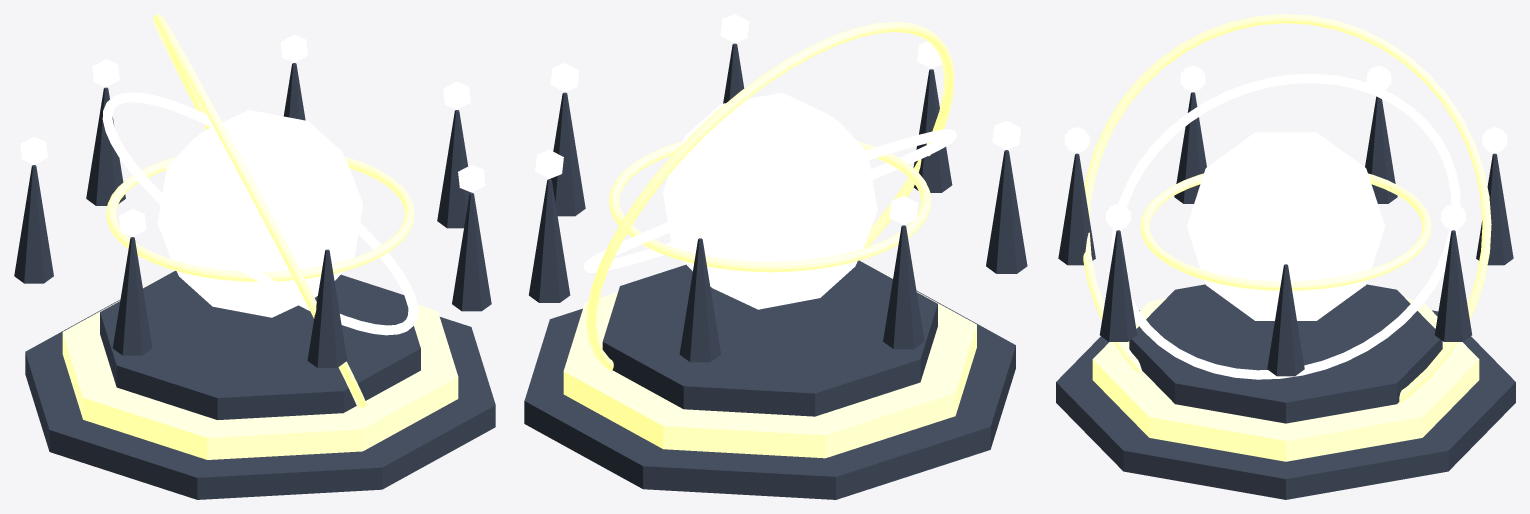
File: gpu-blender-v13.glb
The picture shows the model from 3 angles, left to right: view 1: azimuth 30°, elevation 25°; view 2: azimuth 150°, elevation 25°; view 3: azimuth 270°, elevation 25°; orthographic projection. The views are drawn at different scales.
Visible parts, largest first — view 1: Cylinder.002, SovereignCore_agent-capsule-jail, Cylinder, Cylinder.001, Torus.001, Torus, Torus.002, Cone.006, Cone.003, Cone.004, Cone.005, Cone (+9 smaller); view 2: Cylinder.002, SovereignCore_agent-capsule-jail, Cylinder, Cylinder.001, Torus.002, Torus.001, Torus, Cone.003, Cone.002, Cone.004, Cone.001, Cone (+8 smaller); view 3: SovereignCore_agent-capsule-jail, Cylinder.002, Cylinder, Cylinder.001, Torus.002, Torus.001, Torus, Cone, Cone.001, Cone.006, Cone.005, Cone.002 (+8 smaller).
Part boxes in pixels (x1,y1,x2,y2): Cylinder.002: (100, 271, 420, 419); SovereignCore_agent-capsule-jail: (157, 110, 363, 317); Cylinder: (25, 299, 495, 499); Cylinder.001: (62, 279, 458, 459); Torus.001: (102, 92, 418, 335); Torus: (106, 156, 414, 281); Torus.002: (153, 14, 366, 407); Cone.006: (452, 193, 491, 311); Cone.003: (14, 165, 53, 283); Cone.004: (112, 237, 152, 355); Cone.005: (307, 249, 347, 367); Cone: (437, 110, 471, 228); Cylinder.002: (602, 260, 937, 416); SovereignCore_agent-capsule-jail: (663, 92, 877, 309); Cylinder: (524, 290, 1015, 499); Cylinder.001: (563, 269, 976, 458); Torus.002: (586, 21, 954, 371); Torus.001: (584, 129, 956, 272); Torus: (609, 141, 931, 272); Cone.003: (883, 225, 924, 349); Cone.002: (679, 238, 720, 362); Cone.004: (986, 150, 1027, 273); Cone.001: (529, 179, 570, 302); Cone: (549, 92, 585, 216); SovereignCore_agent-capsule-jail: (1186, 132, 1385, 320); Cylinder.002: (1129, 284, 1442, 423); Cylinder: (1056, 310, 1515, 499); Cylinder.001: (1092, 298, 1479, 461); Torus.002: (1083, 14, 1491, 403); Torus.001: (1111, 73, 1460, 379); Torus: (1140, 173, 1431, 290); Cone: (1267, 264, 1304, 376); Cone.001: (1434, 230, 1472, 341); Cone.006: (1099, 230, 1137, 341); Cone.005: (1058, 153, 1095, 265); Cone.002: (1476, 153, 1513, 265).
Bounding box in the file's own units: 4.41 × 3.72 × 4.4.
